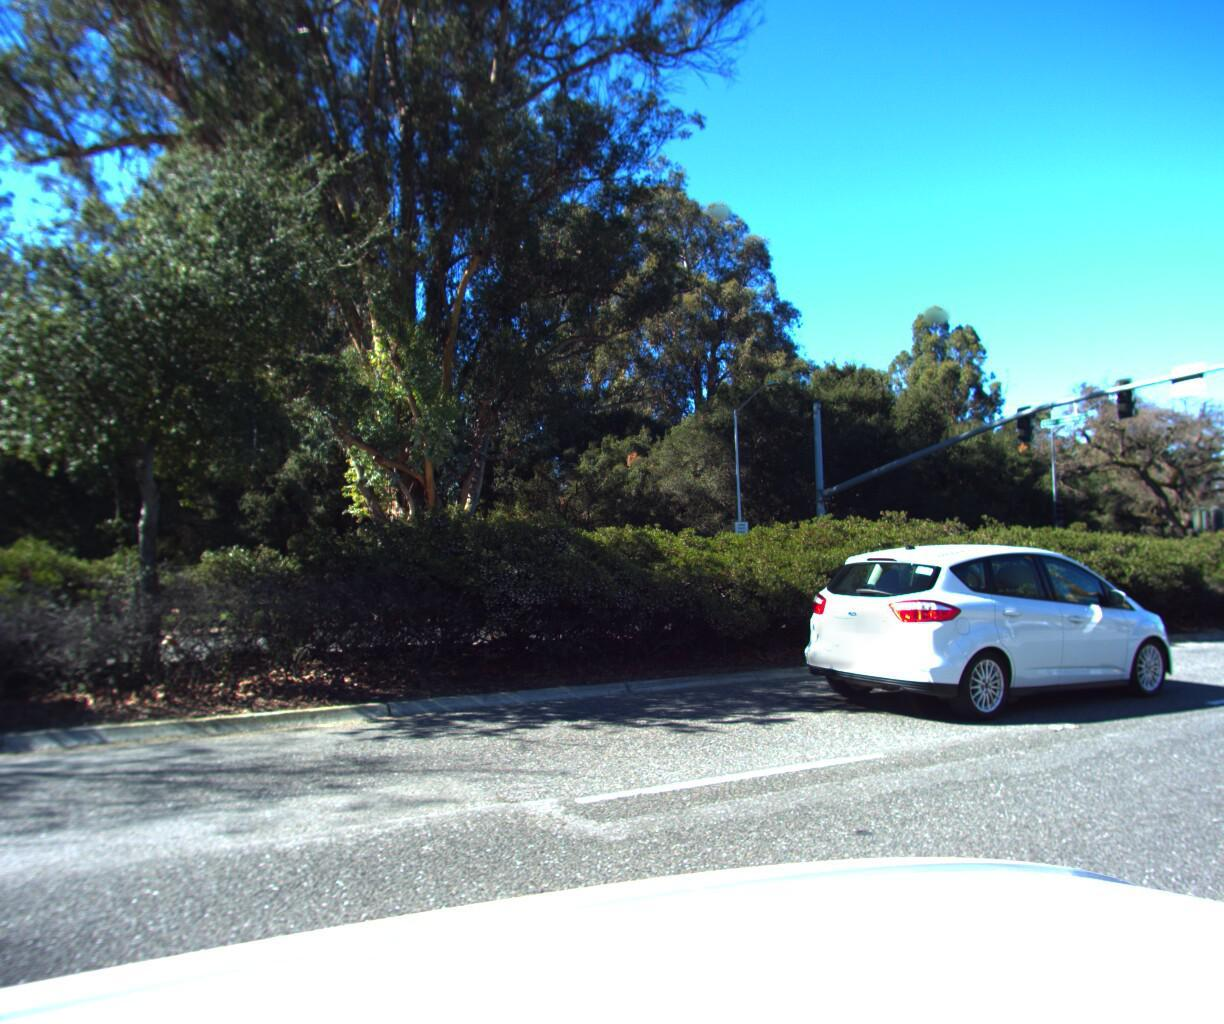car: (785, 532, 1214, 731)
